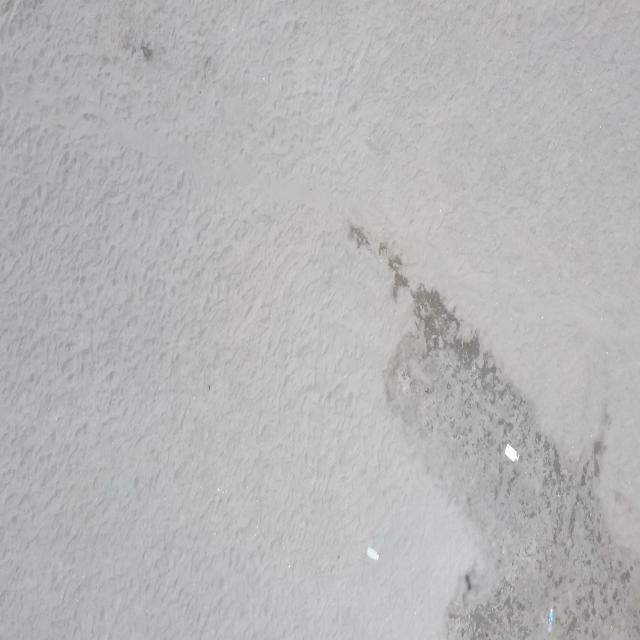plastic-bottle: (504, 443, 520, 464), (366, 546, 380, 562), (547, 607, 555, 632)
